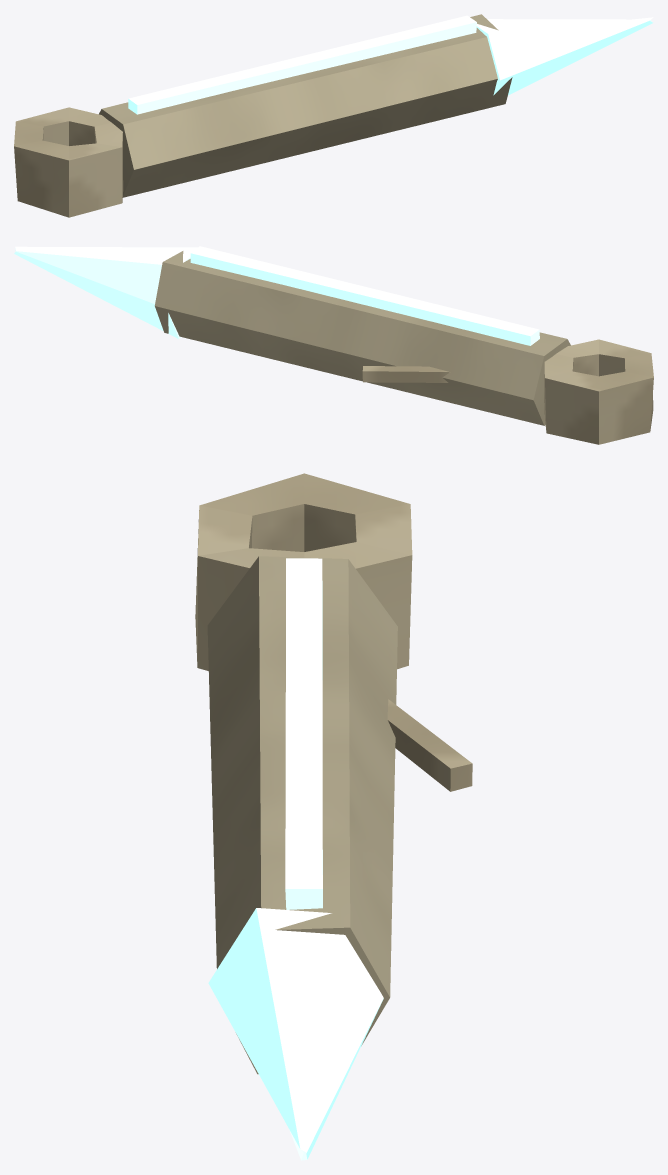
File: needle_phantom.glb
The picture shows the model from 3 angles, top to bottom: view 1: azimuth 30°, elevation 25°; view 2: azimuth 150°, elevation 25°; view 3: azimuth 270°, elevation 25°; orthographic projection. The views are drawn at different scales.
Visible parts, largest first — view 1: NeedlePhantom; view 2: NeedlePhantom; view 3: NeedlePhantom.
Part boxes in pixels (x1,y1,x2,y2): NeedlePhantom: [14, 14, 653, 217]; NeedlePhantom: [14, 246, 653, 444]; NeedlePhantom: [195, 473, 472, 1160].
Size of the model in its own units: 0.3375 by 0.0416 by 0.0634.
3 materials, 2 textured.
